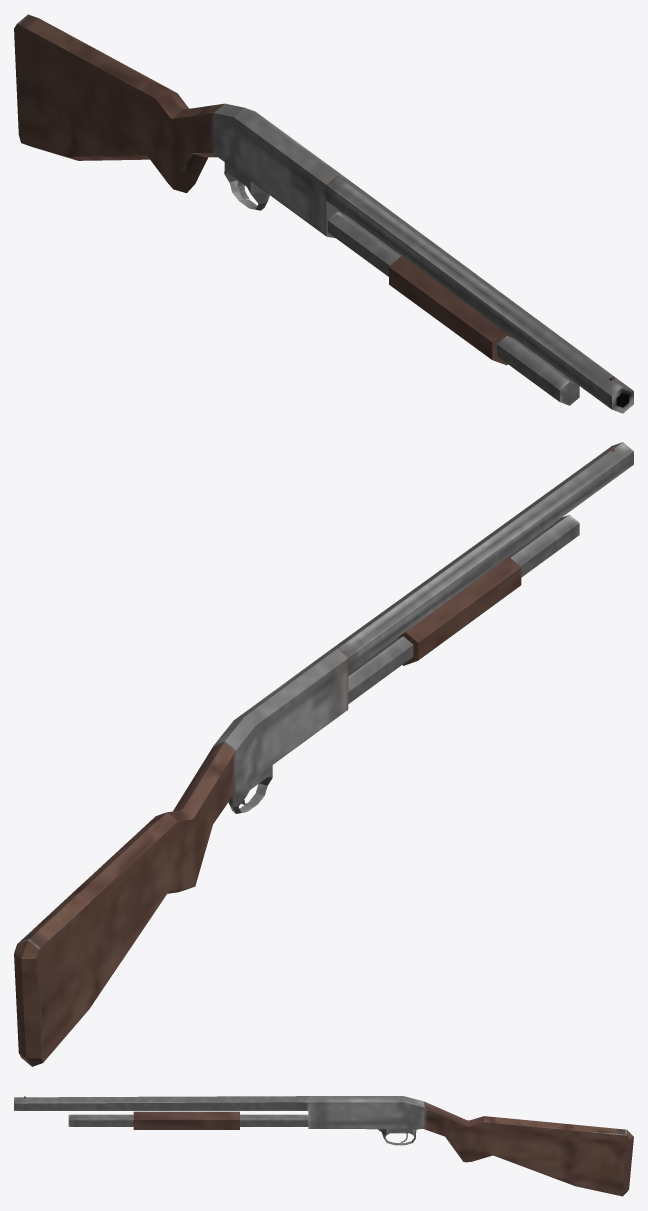
File: Shotgun01.obj
3 views of the same model, one above another, from view 1: azimuth 30°, elevation 25°; view 2: azimuth 150°, elevation 25°; view 3: azimuth 270°, elevation 25° (orthographic). The views are drawn at different scales.
Parts seen in each view (by area): view 1: Shotgun01, Pump; view 2: Shotgun01, Pump; view 3: Shotgun01, Pump.
Part boxes in pixels (x1=…): Shotgun01: x1=14, y1=14, x2=633, y2=413; Pump: x1=389, y1=256, x2=513, y2=365; Shotgun01: x1=14, y1=442, x2=633, y2=1066; Pump: x1=396, y1=556, x2=521, y2=665; Shotgun01: x1=14, y1=1096, x2=633, y2=1196; Pump: x1=133, y1=1111, x2=239, y2=1129.
Bounding box in the file's own units: 0.0324 × 0.2064 × 1.15.
